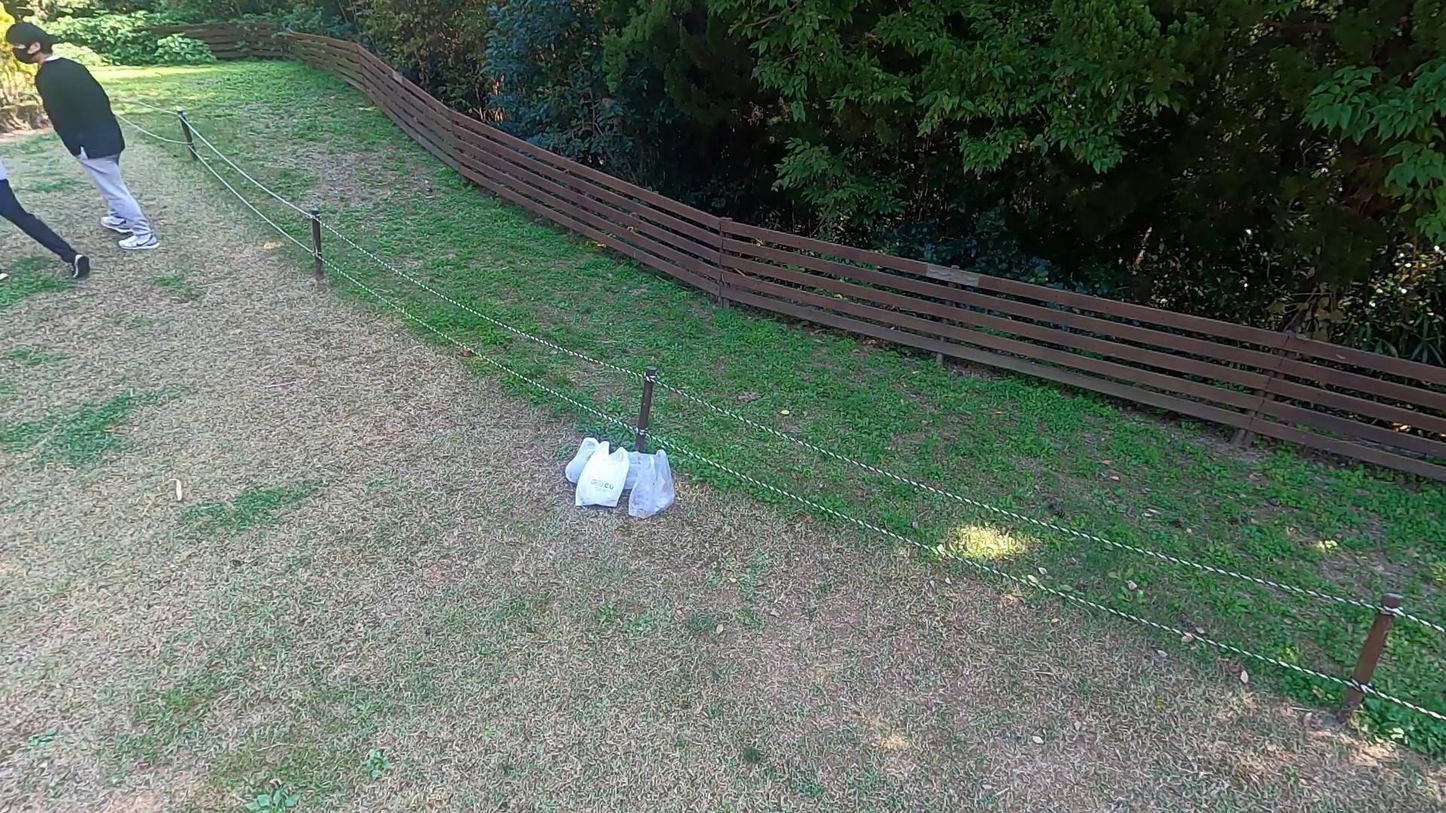person: (3, 20, 167, 276)
trash: (625, 449, 683, 514), (576, 444, 629, 513), (559, 437, 604, 494)
